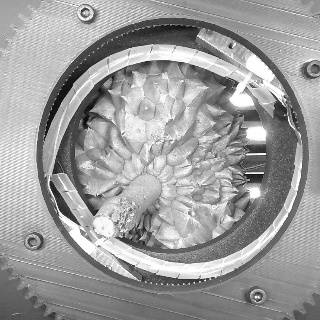base: (122, 170, 168, 208)
end: (91, 214, 116, 239)
